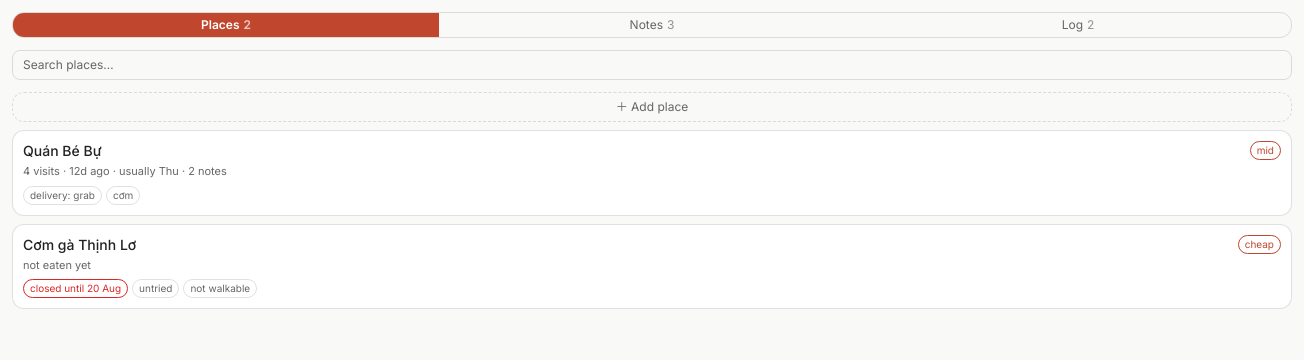
KnowledgePanel — notes › groups notes under the thing they are about, rules first
This screenshot has width=1304, height=360.
Expected: the text "Quán Bé Bự" is shown, [23, 142, 102, 159]
Click the tab "Notes3".
click(652, 25)  # box [439, 13, 865, 37]
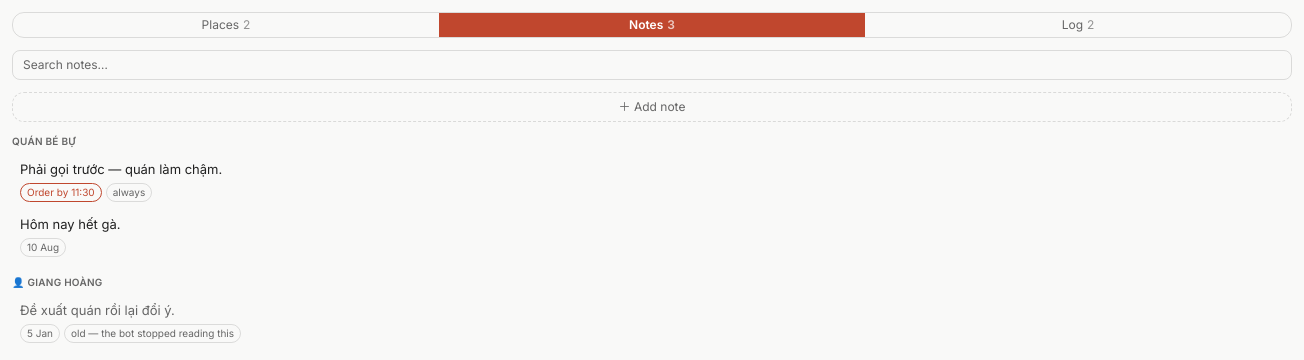
Result: the button "Phải gọi trước — quán làm chậm. Order by 11:30 always" is shown at [12, 155, 1292, 208]
Result: the text "Giang Hoàng" is shown at [28, 276, 102, 288]
